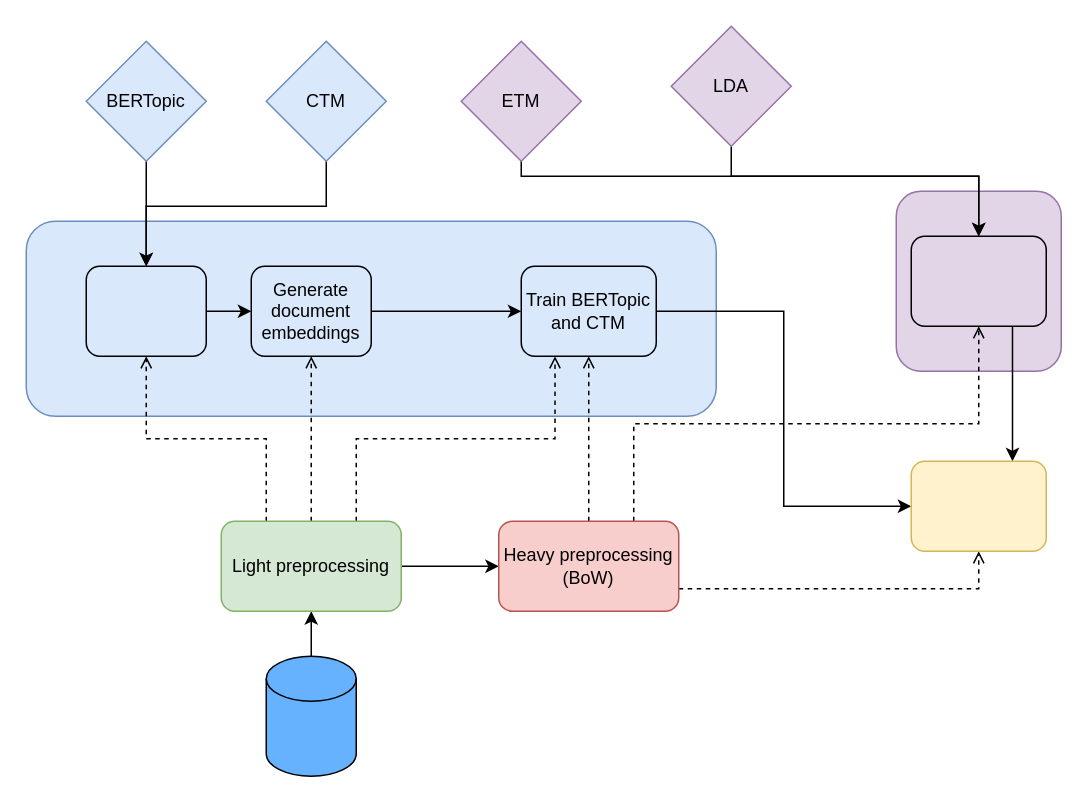
The diagram is 1088 pixels wide and 803 high, and some of its shapes have lost their labels. Here are the shapes that lost their labels. From the top down, the centre of each, then its label:
At pixel 978 280: "Train LDA and ETM".
At pixel 145 310: "Fine-tune SBERT".
At pixel 978 505: "Model Evaluation".
At pixel 310 715: "Dataset 2M".
